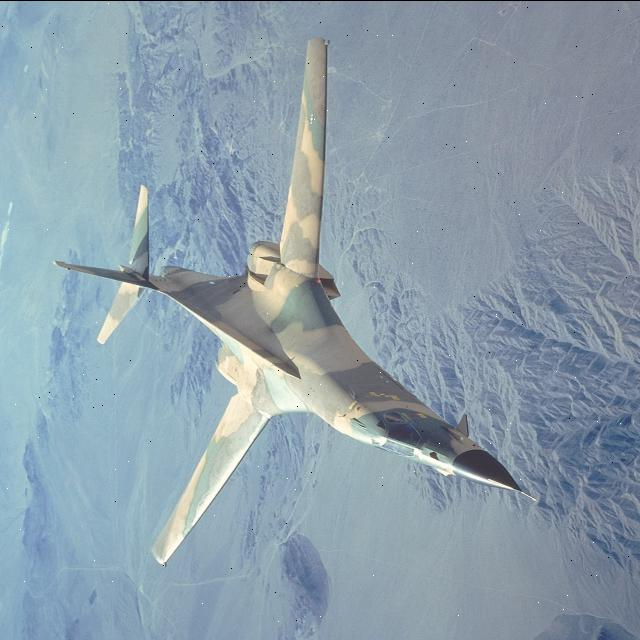B1: (35, 8, 555, 623)
